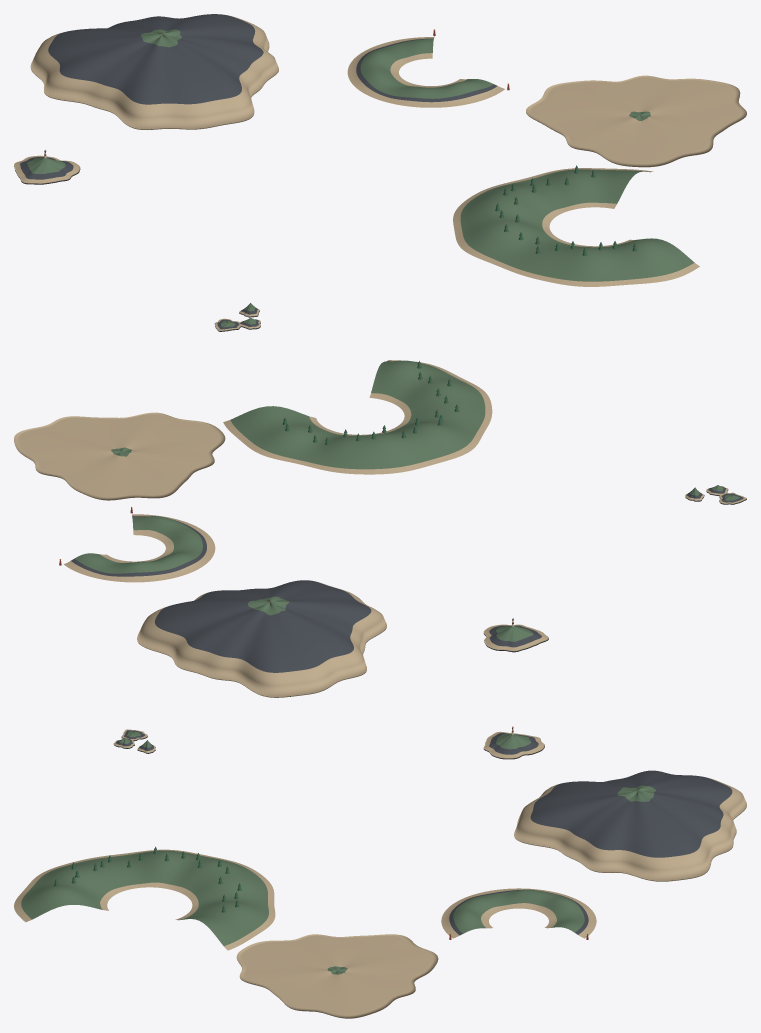
Rendered from archipelago.glb.
The picture shows the model from 3 angles, top to bottom: view 1: azimuth 30°, elevation 25°; view 2: azimuth 150°, elevation 25°; view 3: azimuth 270°, elevation 25°; orthographic projection. The views are drawn at different scales.
Parts seen in each view (by area): view 1: HighCliffLand, PineCrescentLand, LowSandLand, CrescentKeyShore, NorthwatchIsland; view 2: HighCliffLand, PineCrescentLand, LowSandLand, CrescentKeyShore, NorthwatchIsland; view 3: HighCliffLand, PineCrescentLand, LowSandLand, CrescentKeyShore, NorthwatchIsland.
Boxes of the visible parts, <box> form: HighCliffLand: <box>30,14,278,129</box>; PineCrescentLand: <box>453,168,699,286</box>; LowSandLand: <box>526,75,746,167</box>; CrescentKeyShore: <box>347,37,504,107</box>; NorthwatchIsland: <box>14,155,80,184</box>; HighCliffLand: <box>137,580,386,697</box>; PineCrescentLand: <box>223,360,492,474</box>; LowSandLand: <box>14,412,225,500</box>; CrescentKeyShore: <box>64,514,215,582</box>; NorthwatchIsland: <box>483,624,548,652</box>; HighCliffLand: <box>514,770,746,881</box>; PineCrescentLand: <box>14,849,275,950</box>; LowSandLand: <box>236,934,438,1018</box>; CrescentKeyShore: <box>441,888,596,938</box>; NorthwatchIsland: <box>483,731,544,759</box>.
Bounding box in the file's own units: 5455 × 362 × 5857.
